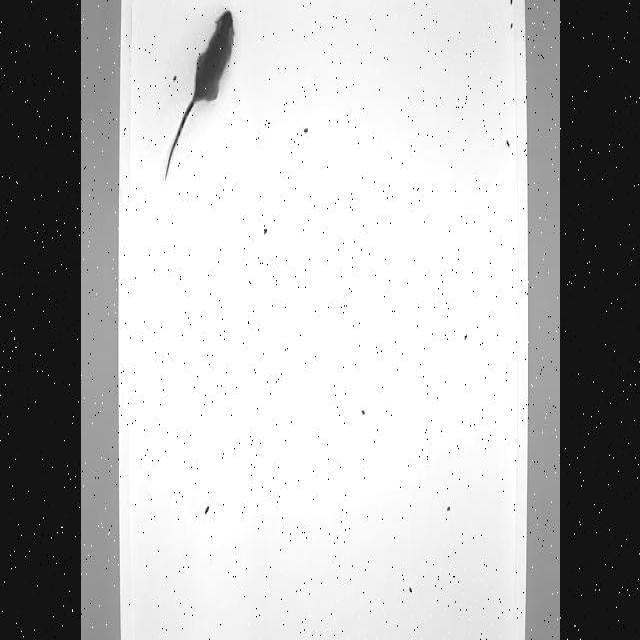rat: (160, 10, 240, 195)
